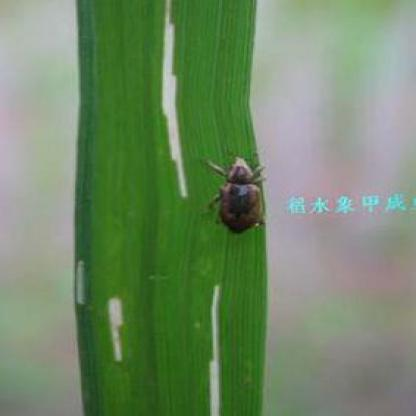rice-bug: (202, 152, 274, 238)
